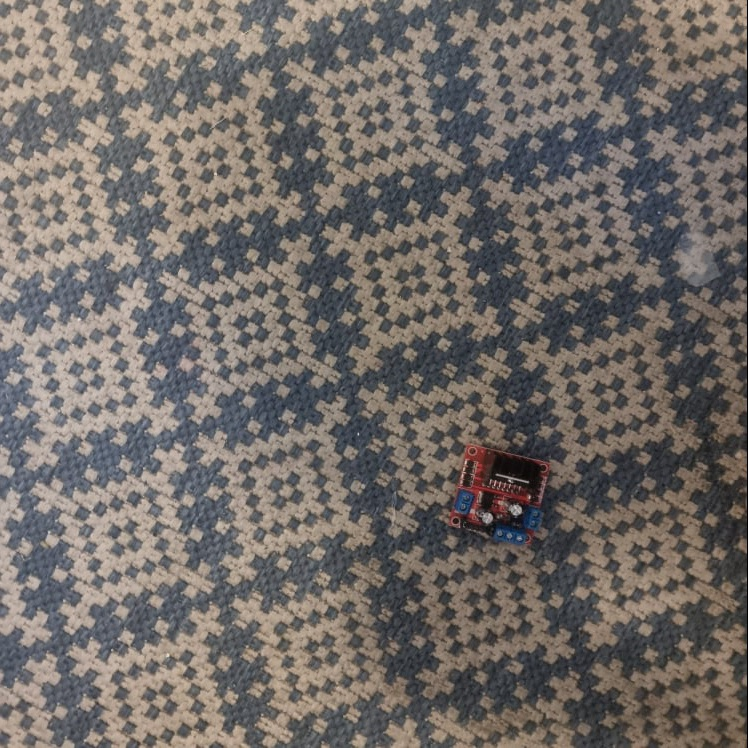MOTOR: (448, 445, 557, 547)
